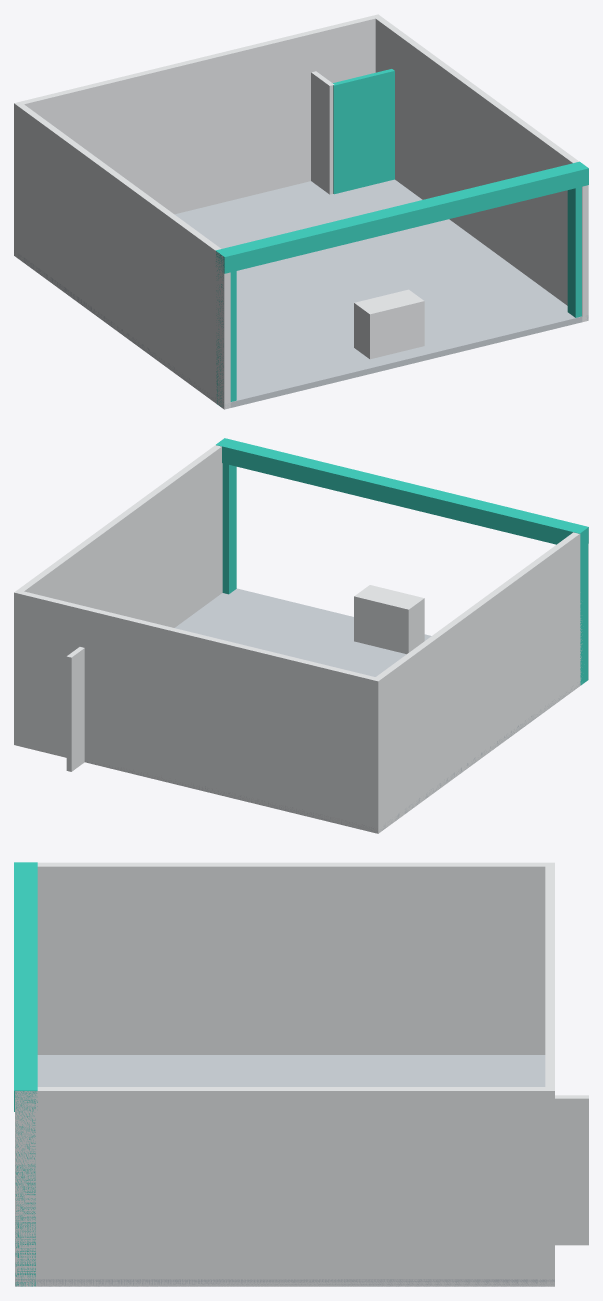
3 views of the same model, one above another, from view 1: azimuth 30°, elevation 25°; view 2: azimuth 150°, elevation 25°; view 3: azimuth 270°, elevation 25° (orthographic). The views are drawn at different scales.
Visible parts, largest first — view 1: Exhibition Booth Concept; view 2: Exhibition Booth Concept; view 3: Exhibition Booth Concept.
Boxes of the visible parts, <box> form: Exhibition Booth Concept: <box>14,14,588,409</box>; Exhibition Booth Concept: <box>14,438,588,833</box>; Exhibition Booth Concept: <box>14,862,588,1286</box>.
Bounding box in the file's own units: 8 × 3.2 × 8.52.
